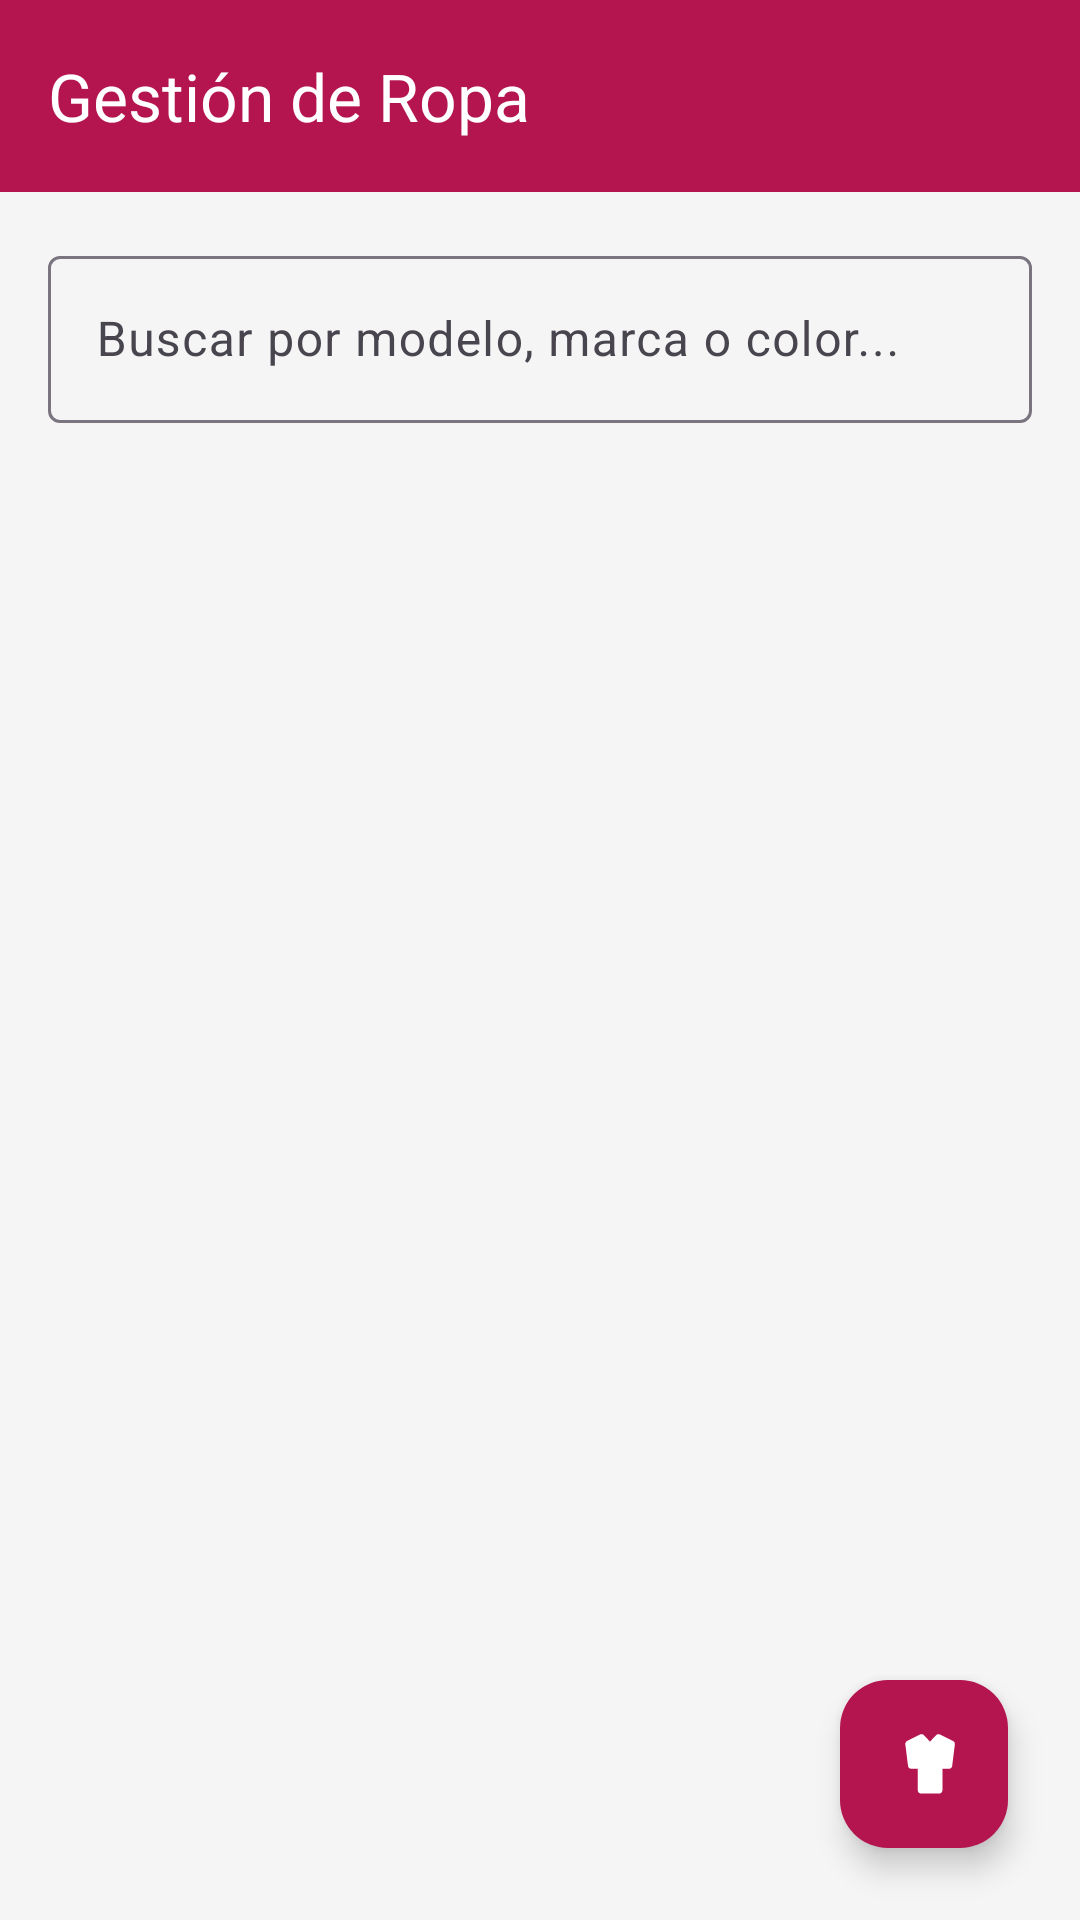

Icons on this 1080w x 1920h Android screen, each with the point to tap as point (x, y):
Agregar prenda: point (924, 1764)
